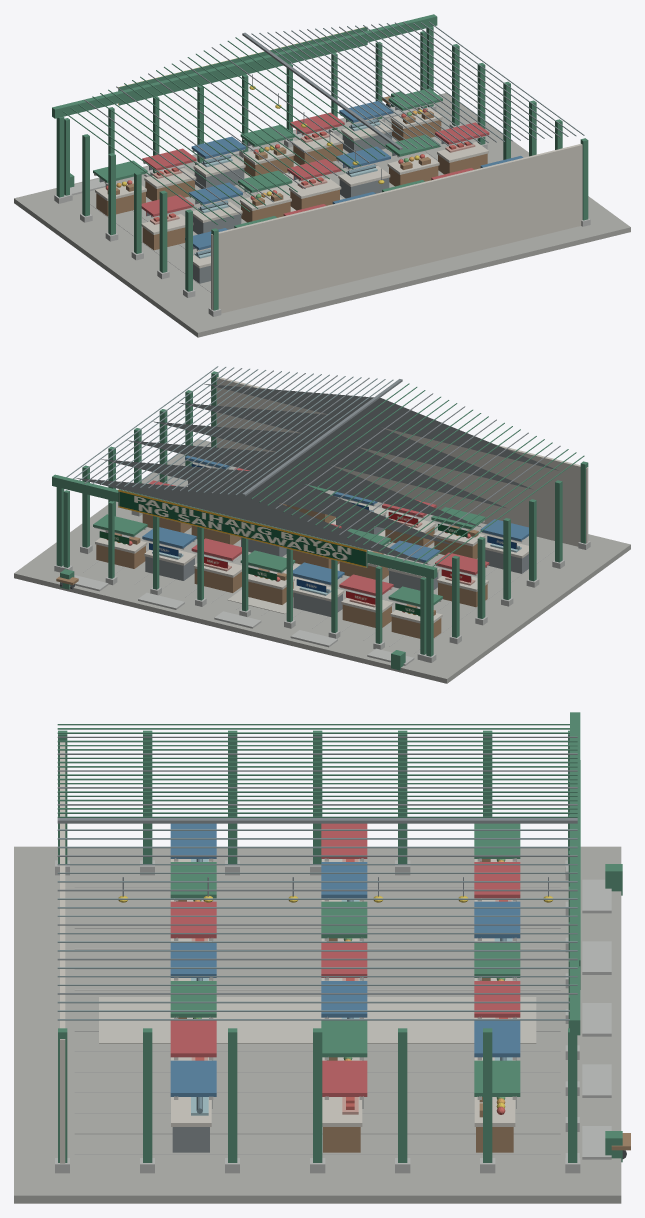
The model's file is Pamilihang_Bayan_San_Wawaldo.glb.
3 views of the same model, one above another, from view 1: azimuth 30°, elevation 25°; view 2: azimuth 150°, elevation 25°; view 3: azimuth 270°, elevation 25° (orthographic). The views are drawn at different scales.
Visible parts, largest first — view 1: 0097_Market_Back_Wall, 0001_Public_Market_Floor, 0098_Market_Front_Fascia, 0099_Market_Main_Sign_Backing, 0050_Market_Main_Gable_Roof_Ridge_Cap, 0067_Market_Perimeter_Column, 0051_Market_Perimeter_Column, 0128_Stall_Awning, 0214_Stall_Awning, 0228_Stall_Awning, 0140_Stall_Awning, 0117_Stall_Awning (+40 smaller); view 2: 0001_Public_Market_Floor, 0097_Market_Back_Wall, 0375_Roof_Truss, 0381_Roof_Truss, 0378_Roof_Truss, 0384_Roof_Truss, 0387_Roof_Truss, 0390_Roof_Truss, 0100_Market_Main_Sign_TexturedFace, 0098_Market_Front_Fascia, 0374_Market_Central_Aisle, 0050_Market_Main_Gable_Roof_Ridge_Cap (+43 smaller); view 3: 0001_Public_Market_Floor, 0374_Market_Central_Aisle, 0050_Market_Main_Gable_Roof_Ridge_Cap, 0098_Market_Front_Fascia, 0097_Market_Back_Wall, 0339_Stall_Awning, 0251_Stall_Awning, 0350_Stall_Awning, 0265_Stall_Awning, 0214_Stall_Awning, 0128_Stall_Awning, 0302_Stall_Awning (+85 smaller).
Boxes of the visible parts, x1,y1,x2,y2 form: 0097_Market_Back_Wall: (211, 144, 582, 313); 0001_Public_Market_Floor: (14, 93, 630, 337); 0098_Market_Front_Fascia: (52, 14, 437, 118); 0099_Market_Main_Sign_Backing: (118, 27, 367, 105); 0050_Market_Main_Gable_Roof_Ridge_Cap: (242, 32, 402, 150); 0067_Market_Perimeter_Column: (159, 190, 167, 272); 0051_Market_Perimeter_Column: (56, 117, 64, 197); 0128_Stall_Awning: (191, 136, 245, 158); 0214_Stall_Awning: (238, 170, 292, 192); 0228_Stall_Awning: (287, 158, 341, 180); 0140_Stall_Awning: (240, 125, 295, 146); 0117_Stall_Awning: (142, 148, 196, 170); 0001_Public_Market_Floor: (14, 439, 630, 683); 0097_Market_Back_Wall: (211, 377, 588, 546); 0375_Roof_Truss: (76, 478, 429, 564); 0381_Roof_Truss: (127, 440, 481, 527); 0378_Roof_Truss: (101, 459, 455, 545); 0384_Roof_Truss: (153, 421, 505, 507); 0387_Roof_Truss: (178, 402, 532, 489); 0390_Roof_Truss: (204, 384, 558, 470); 0100_Market_Main_Sign_TexturedFace: (118, 489, 366, 567); 0098_Market_Front_Fascia: (52, 474, 437, 578); 0374_Market_Central_Aisle: (228, 503, 417, 613); 0050_Market_Main_Gable_Roof_Ridge_Cap: (242, 379, 402, 496); 0001_Public_Market_Floor: (14, 846, 621, 1203); 0374_Market_Central_Aisle: (99, 997, 536, 1043); 0050_Market_Main_Gable_Roof_Ridge_Cap: (57, 818, 577, 823); 0098_Market_Front_Fascia: (570, 712, 580, 1035); 0097_Market_Back_Wall: (60, 742, 65, 1163); 0339_Stall_Awning: (170, 1020, 216, 1057); 0251_Stall_Awning: (321, 1020, 367, 1057); 0350_Stall_Awning: (170, 1060, 216, 1096); 0265_Stall_Awning: (322, 1060, 367, 1096); 0214_Stall_Awning: (321, 901, 367, 938); 0128_Stall_Awning: (474, 901, 520, 938); 0302_Stall_Awning: (170, 901, 216, 938).
Size of the model in its own units: 34 by 9.53 by 25.4.
Materials: 4 (4 with a texture image).
